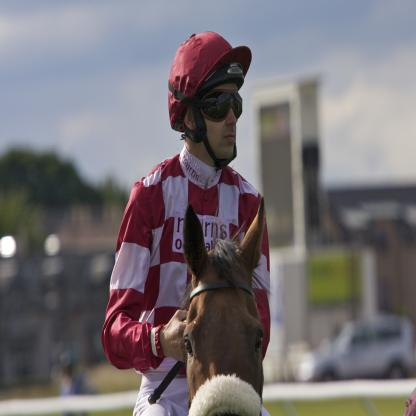Helmet: (166, 26, 247, 162)
